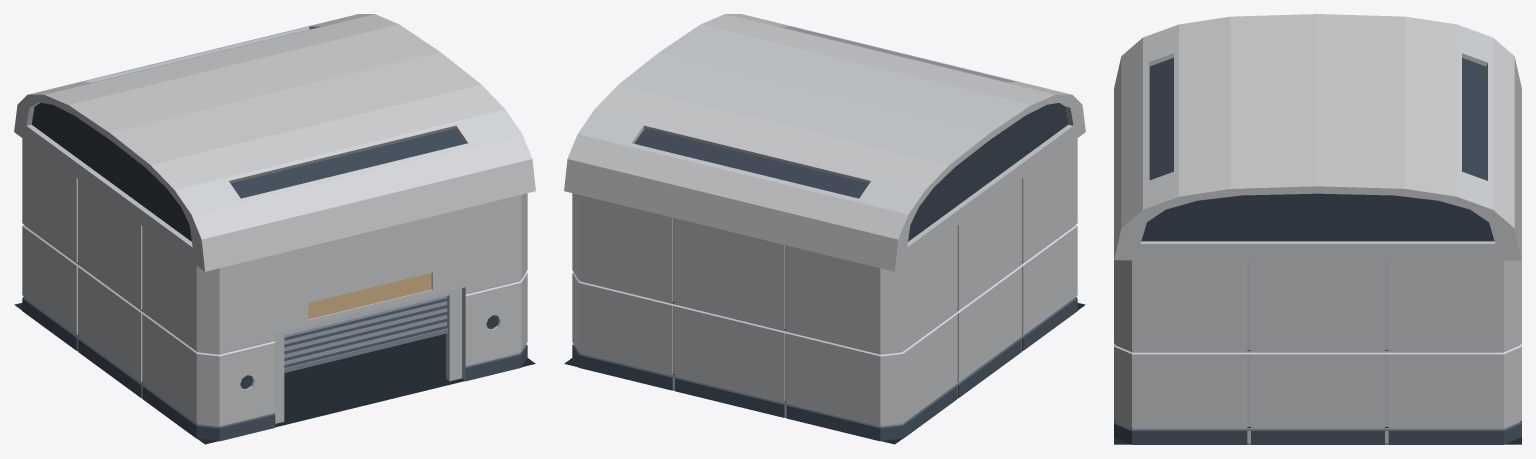
Rendered from vehicle-depot-hangar-6adb80.glb.
3 views of the same model, side by side, from view 1: azimuth 30°, elevation 25°; view 2: azimuth 150°, elevation 25°; view 3: azimuth 270°, elevation 25° (orthographic). The views are drawn at different scales.
Parts seen in each view (by area): view 1: hangar-shell, glazing, door-curtain; view 2: hangar-shell, glazing; view 3: hangar-shell, glazing.
Part boxes in pixels (box(x1,y1,x2,y2)): hangar-shell: box(14, 14, 535, 444); glazing: box(31, 103, 499, 388); door-curtain: box(284, 296, 447, 372); hangar-shell: box(564, 14, 1085, 444); glazing: box(634, 103, 1068, 241); hangar-shell: box(1114, 14, 1521, 444); glazing: box(1141, 58, 1494, 241).
Size of the model in its own units: 16 by 11.2 by 16.
